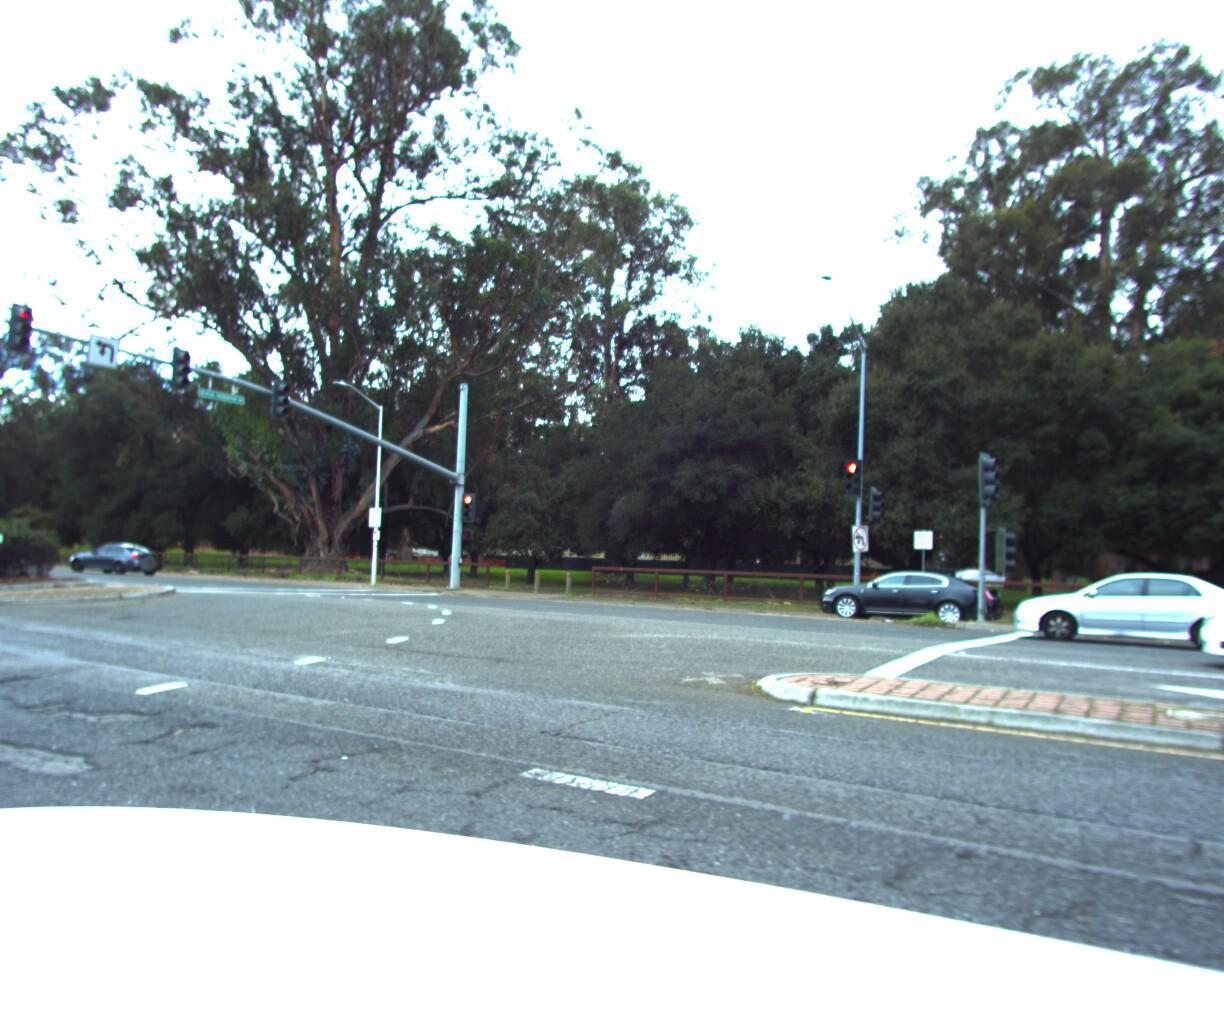car: (1003, 559, 1224, 649), (809, 558, 993, 623), (1190, 550, 1224, 715), (67, 536, 170, 571)
